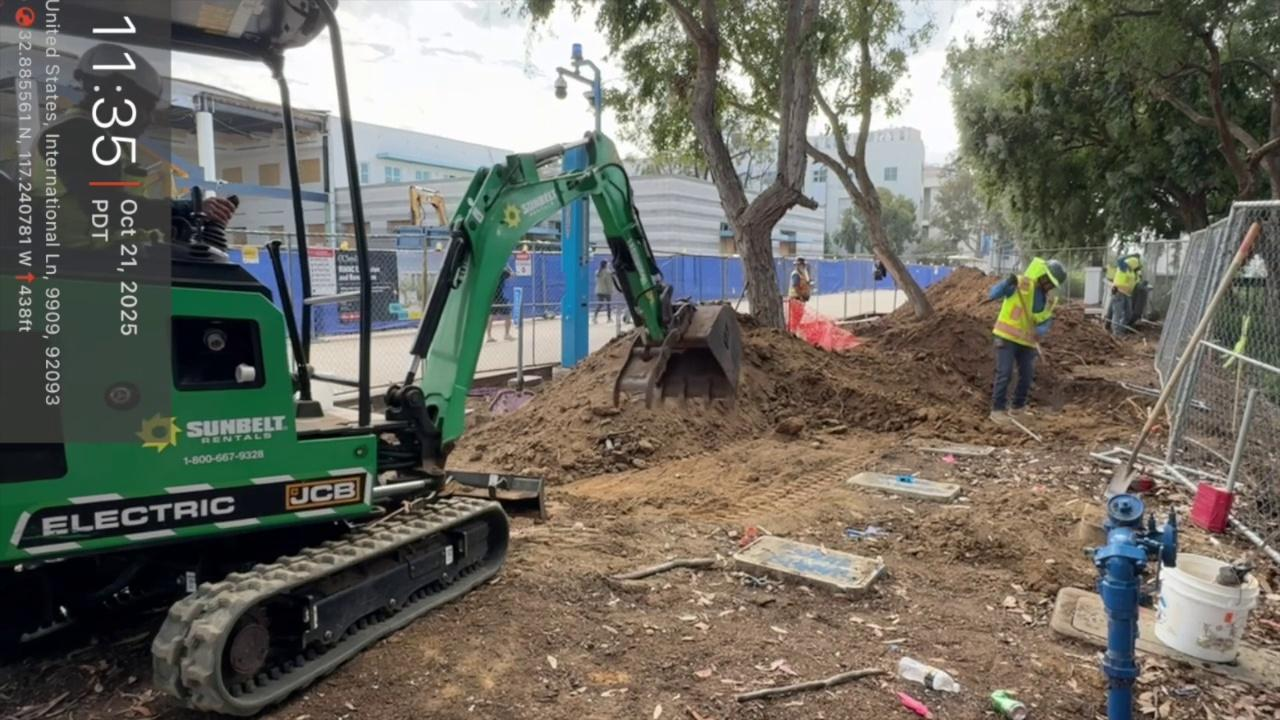Exacavator: (8, 97, 749, 720)
